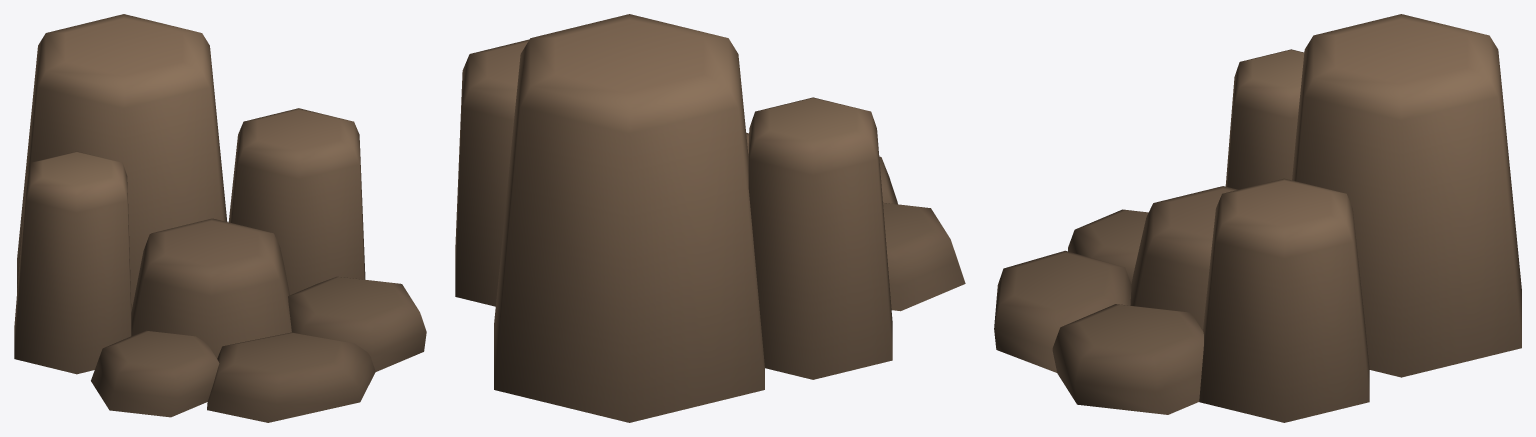
File: Rock_01_A.fbx
3 renders of one model, left to right at view 1: azimuth 30°, elevation 25°; view 2: azimuth 150°, elevation 25°; view 3: azimuth 270°, elevation 25°, orthographic. The views are drawn at different scales.
Visible parts, largest first — view 1: Rock_01_A; view 2: Rock_01_A; view 3: Rock_01_A.
Part boxes in pixels (x1,y1,x2,y2): Rock_01_A: (14,14,426,422); Rock_01_A: (455,14,965,422); Rock_01_A: (994,14,1521,422).
Bounding box in the file's own units: 5497 × 3580 × 6407.
